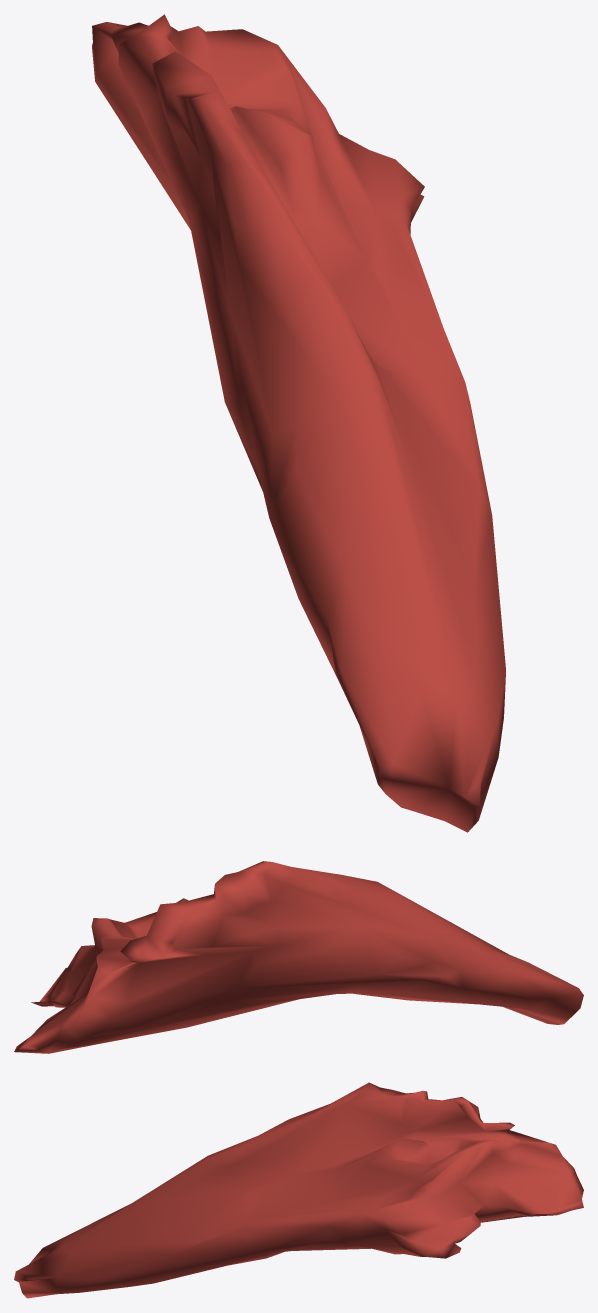
The model's file is musculos-oblique-head-of-adductor-hallucis-l.glb.
3 renders of one model, top to bottom at view 1: azimuth 30°, elevation 25°; view 2: azimuth 150°, elevation 25°; view 3: azimuth 270°, elevation 25°, orthographic. The views are drawn at different scales.
Visible parts, largest first — view 1: Oblique head of adductor hallucis.l; view 2: Oblique head of adductor hallucis.l; view 3: Oblique head of adductor hallucis.l.
Boxes of the visible parts, x1,y1,x2,y2 form: Oblique head of adductor hallucis.l: (92, 14, 505, 832); Oblique head of adductor hallucis.l: (14, 861, 583, 1053); Oblique head of adductor hallucis.l: (14, 1082, 583, 1298).
Bounding box in the file's own units: 0.028 × 0.0301 × 0.0665.
